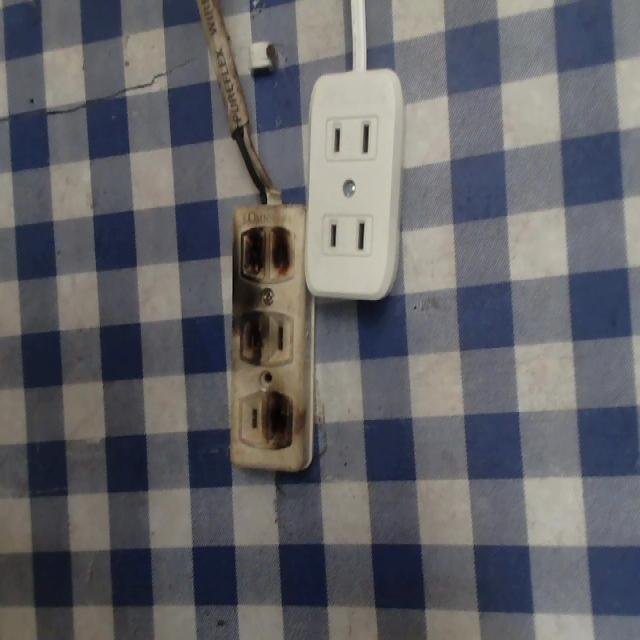-: (236, 220, 296, 284), (261, 390, 296, 458), (235, 310, 267, 370)
